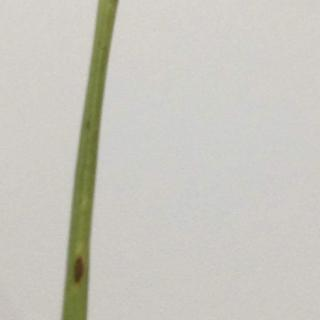Blast: (69, 256, 90, 286)
